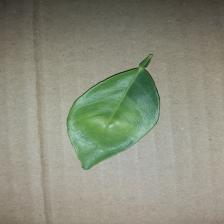greening: (58, 51, 166, 172)
